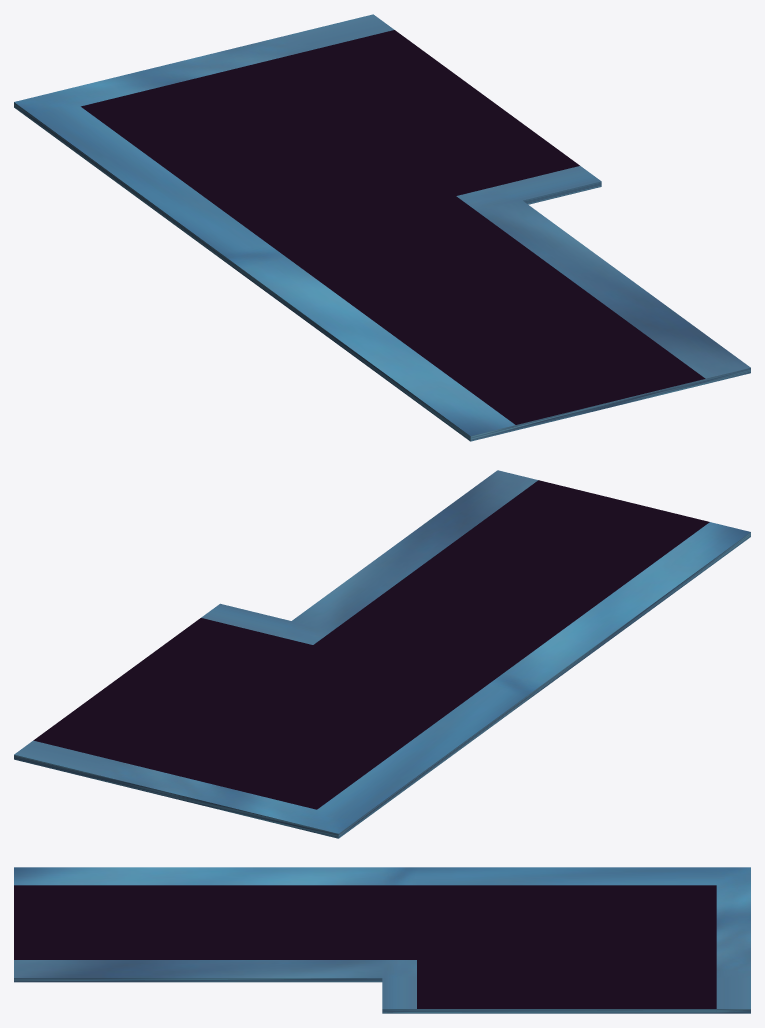
File: RouteGaucheBas.dae
The picture shows the model from 3 angles, top to bottom: view 1: azimuth 30°, elevation 25°; view 2: azimuth 150°, elevation 25°; view 3: azimuth 270°, elevation 25°; orthographic projection. The views are drawn at different scales.
Visible parts, largest first — view 1: Cube; view 2: Cube; view 3: Cube.
Part boxes in pixels (bbox=[...]): Cube: bbox=[14, 14, 750, 441]; Cube: bbox=[14, 470, 750, 838]; Cube: bbox=[14, 867, 750, 1013].
Bounding box in the file's own units: 1.62 × 3.57 × 0.0237.
Materials: 2 (1 with a texture image).
